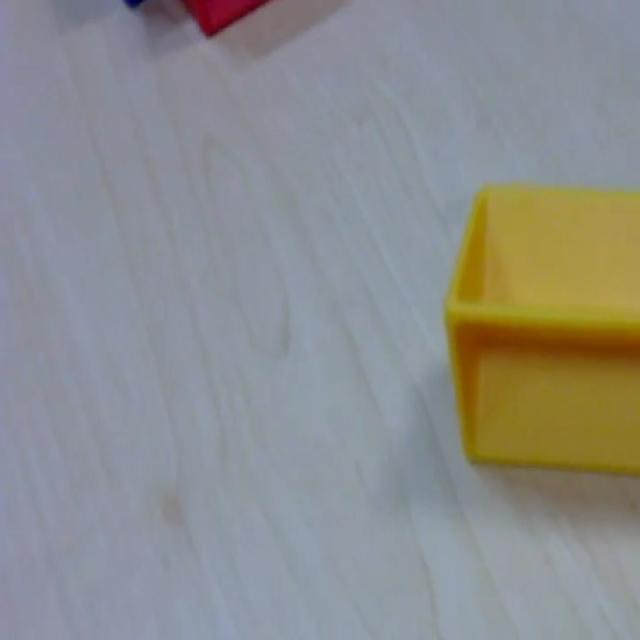yellow_block: (444, 180, 638, 476)
